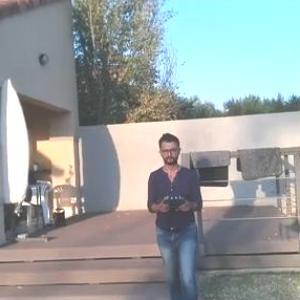follow: (142, 126, 208, 299)
